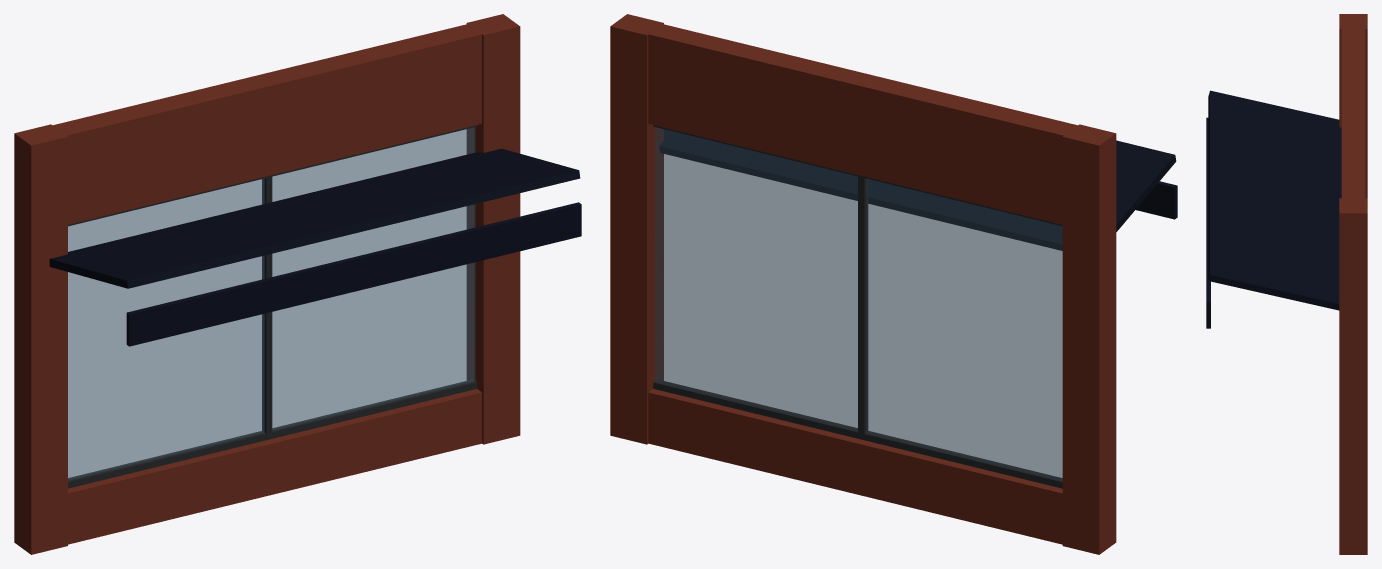
Rendered from KIT_Storefront_4m_Brick_Navy.glb.
The picture shows the model from 3 angles, left to right: view 1: azimuth 30°, elevation 25°; view 2: azimuth 150°, elevation 25°; view 3: azimuth 270°, elevation 25°; orthographic projection. The views are drawn at different scales.
Visible parts, largest first — view 1: KIT_Storefront_4m_Brick_Navy; view 2: KIT_Storefront_4m_Brick_Navy; view 3: KIT_Storefront_4m_Brick_Navy.
Boxes of the visible parts, x1=… form: KIT_Storefront_4m_Brick_Navy: x1=14, y1=14, x2=581, y2=554; KIT_Storefront_4m_Brick_Navy: x1=610, y1=14, x2=1177, y2=554; KIT_Storefront_4m_Brick_Navy: x1=1206, y1=14, x2=1367, y2=554.
Size of the model in its own units: 4 by 3.2 by 1.37.
